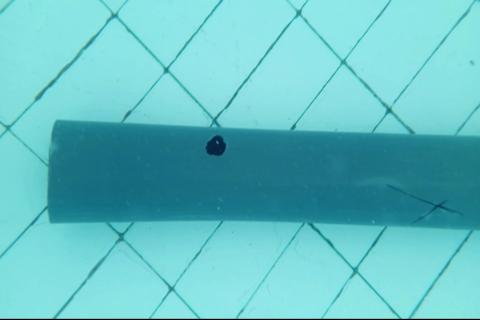kebocoran: (205, 134, 227, 156)
keretakan: (385, 181, 463, 225)
